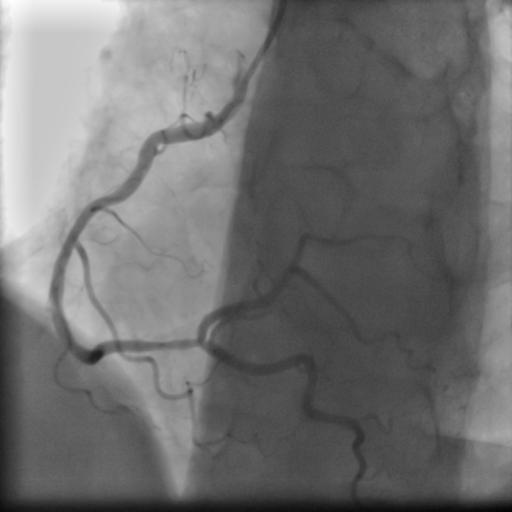Stenosis: (151, 333, 200, 357)
